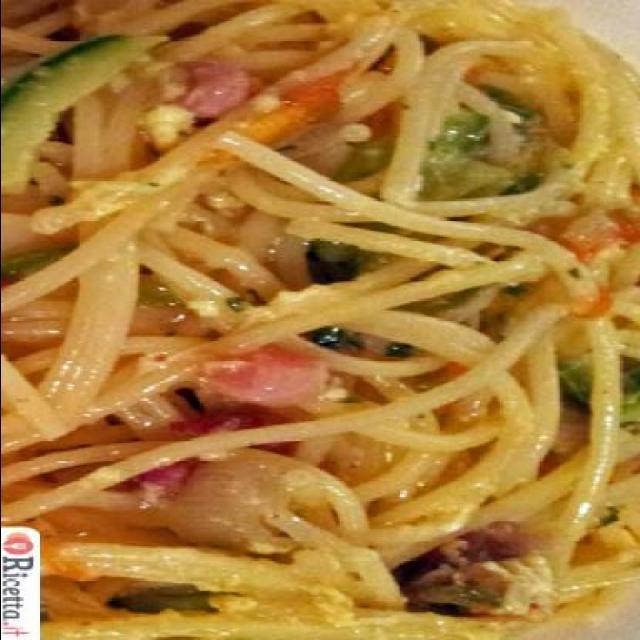Pasta with carbonara sauce: (87, 18, 619, 606)
